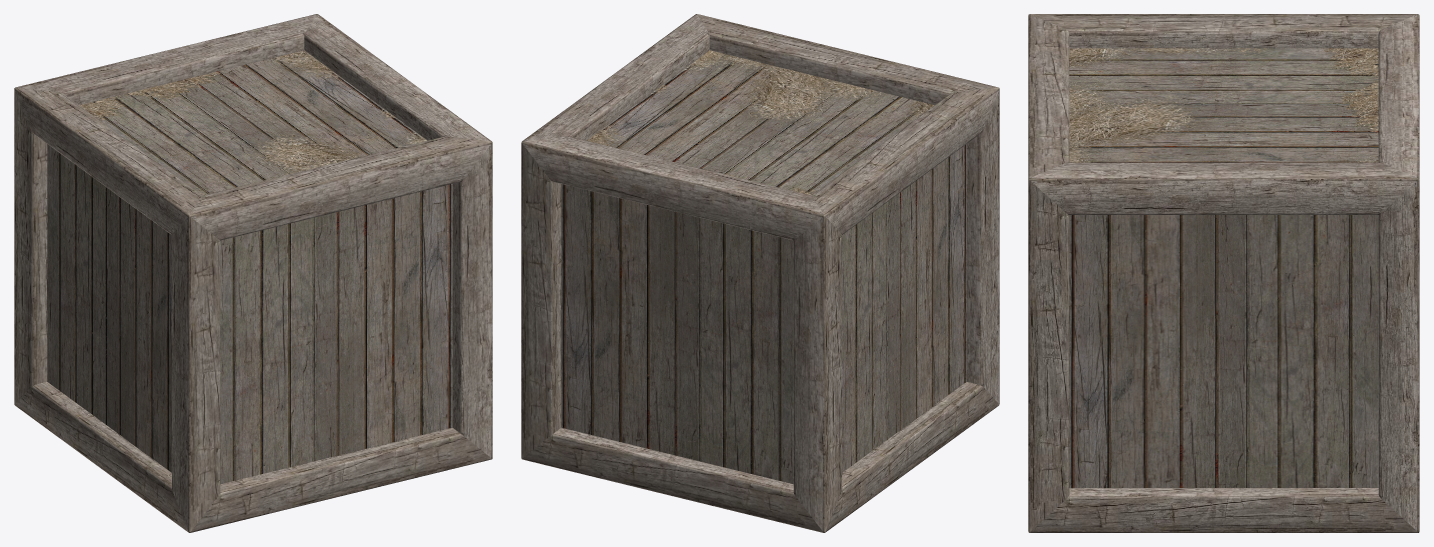
File: WoodenCrate.FBX
3 views of the same model, side by side, from view 1: azimuth 30°, elevation 25°; view 2: azimuth 150°, elevation 25°; view 3: azimuth 270°, elevation 25° (orthographic). The views are drawn at different scales.
Parts seen in each view (by area): view 1: WoodenCrate; view 2: WoodenCrate; view 3: WoodenCrate.
Boxes of the visible parts, x1,y1,x2,y2 form: WoodenCrate: (14, 14, 492, 532); WoodenCrate: (521, 14, 999, 532); WoodenCrate: (1028, 14, 1419, 532).
Size of the model in its own units: 394 by 394 by 394.
